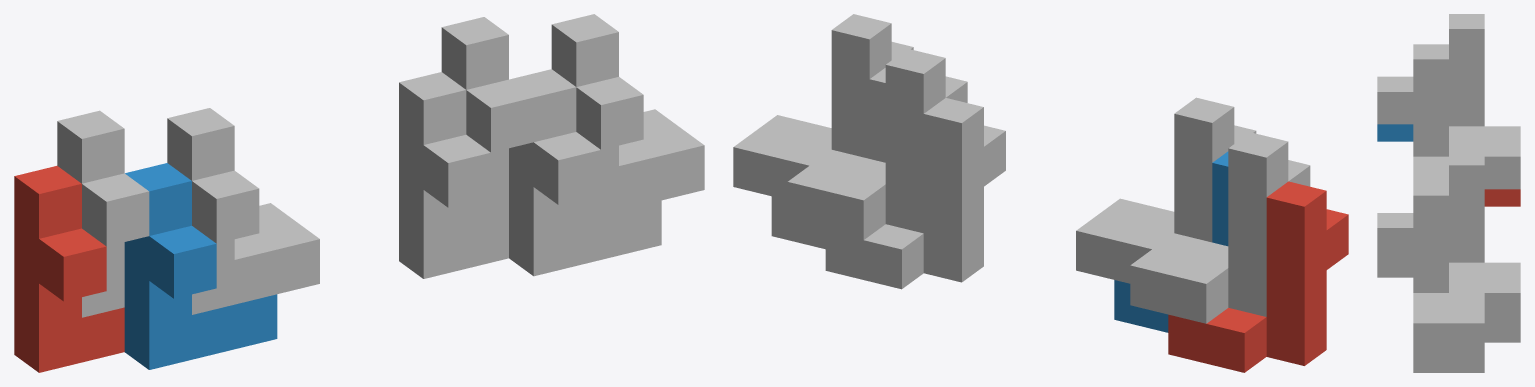
The model's file is tiling.obj.
3 renders of one model, left to right at view 1: azimuth 30°, elevation 25°; view 2: azimuth 150°, elevation 25°; view 3: azimuth 270°, elevation 25°, orthographic. The views are drawn at different scales.
Visible parts, largest first — view 1: copy_1_domain_2, copy_1_domain_6, copy_1_domain_1, copy_1_domain_5, copy_1_domain_8, copy_1_domain_4, copy_1_domain_3, copy_1_domain_7; view 2: copy_1_domain_5, copy_1_domain_1, copy_1_domain_3, copy_1_domain_7, copy_1_domain_8, copy_1_domain_4, copy_1_domain_2, copy_1_domain_6; view 3: copy_1_domain_8, copy_1_domain_7, copy_1_domain_3, copy_1_domain_4, copy_1_domain_6, copy_1_domain_1, copy_1_domain_2, copy_1_domain_5.
Boxes of the visible parts, x1,y1,x2,y2 form: copy_1_domain_2: (124, 163, 277, 369); copy_1_domain_6: (509, 69, 661, 276); copy_1_domain_1: (14, 166, 124, 372); copy_1_domain_5: (399, 72, 508, 278); copy_1_domain_8: (551, 14, 704, 221); copy_1_domain_4: (167, 108, 319, 314); copy_1_domain_3: (57, 110, 149, 317); copy_1_domain_7: (441, 17, 533, 223); copy_1_domain_5: (825, 98, 1005, 289); copy_1_domain_1: (1168, 181, 1348, 372); copy_1_domain_3: (1130, 132, 1310, 323); copy_1_domain_7: (787, 49, 967, 240); copy_1_domain_8: (733, 14, 913, 199); copy_1_domain_4: (1076, 97, 1256, 283); copy_1_domain_2: (1114, 151, 1228, 332); copy_1_domain_6: (771, 68, 885, 249); copy_1_domain_8: (1377, 180, 1484, 355); copy_1_domain_7: (1449, 150, 1520, 325); copy_1_domain_3: (1449, 14, 1520, 189); copy_1_domain_4: (1377, 44, 1448, 180); copy_1_domain_6: (1377, 260, 1484, 372); copy_1_domain_1: (1484, 189, 1520, 206); copy_1_domain_2: (1377, 124, 1413, 141); copy_1_domain_5: (1484, 325, 1520, 342).
Size of the model in its own units: 15 by 5 by 4.
